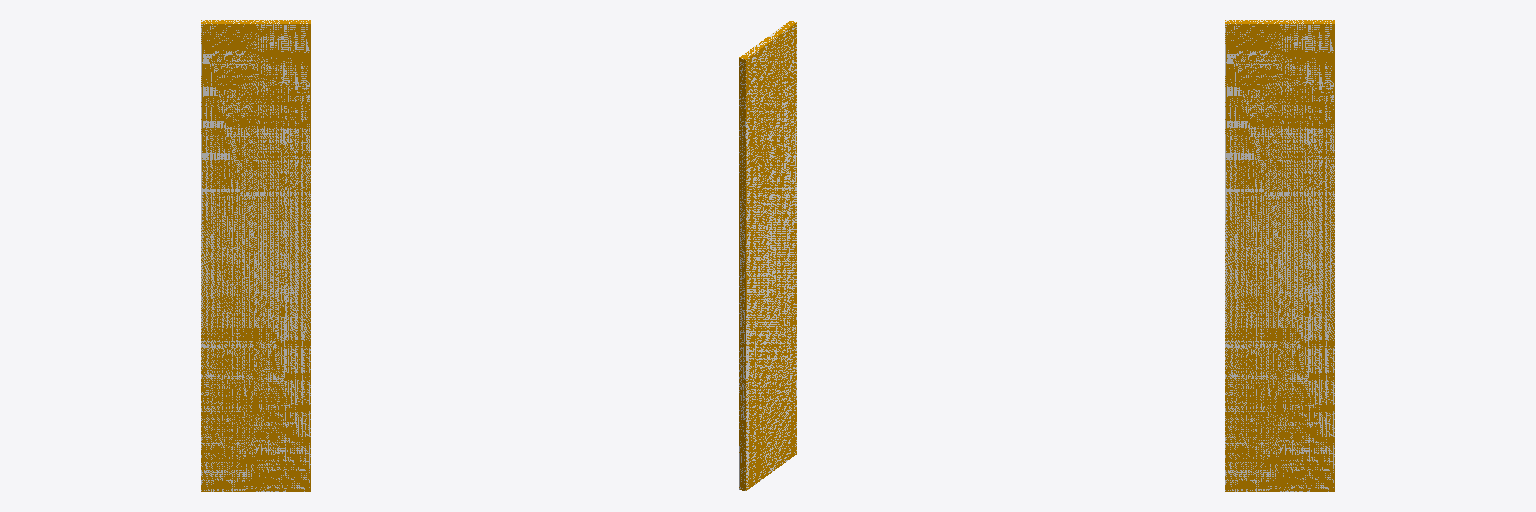
The robot description file, URDF, robot "my_object":
<?xml version="1.0" ?> 
<robot name="my_object" static="true">
  <link name="base_link">
  <inertial>
    <mass value="1.0" />
    <origin xyz="0 0 0.0" />
    <inertia ixx="1.0" ixy="0.0" ixz="0.0" iyy="1.0" iyz="0.0" izz="1.0"/>
  </inertial>
  <visual>
   <origin xyz="0 0 0.0" rpy="0 0 0" />
   <geometry>
     <mesh filename="package://cob_gazebo_objects/Media/models/SRS_divider4.dae"/>
   </geometry>
  </visual>
  <collision>
   <origin xyz="0 0 0.0" rpy="0 0 0" />
   <geometry>
     <mesh filename="package://cob_gazebo_objects/Media/models/SRS_divider4.dae" />
   </geometry>
  </collision>     
  </link>

<gazebo>
	<static>true</static>
</gazebo>

</robot>

--- Facts derived from the render (not from the file) ---
Views: 3 orthographic renders of the robot side by side, from view 1: azimuth 90°, elevation 25°; view 2: azimuth 150°, elevation 25°; view 3: azimuth 270°, elevation 25°.
Model my_object with 1 links and 0 joints (none), rooted at base_link, posed all joints at 0.
Links seen in each view (by area): view 1: base_link; view 2: base_link; view 3: base_link.
Boxes of the visible links, box(x1,y1,x2,y2) form: base_link: box(201, 20, 310, 491); base_link: box(739, 21, 796, 490); base_link: box(1225, 20, 1334, 491).
Bounding box of the posed robot: 0.0011 × 0.0142 × 0.066 m (x, y, z).
Meshes: 1 distinct files referenced, 1 mesh visuals loaded (1 Collada DAE).